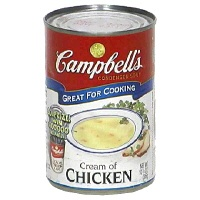grozi_110: (43, 5, 156, 194)
